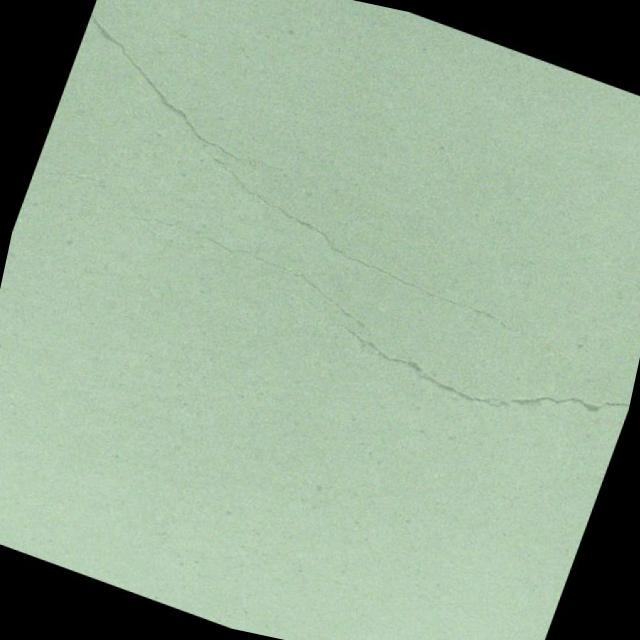crack: (19, 8, 640, 367), (319, 298, 638, 455), (65, 185, 392, 334), (28, 156, 153, 218), (254, 241, 308, 269), (332, 272, 366, 314), (316, 260, 338, 273)
